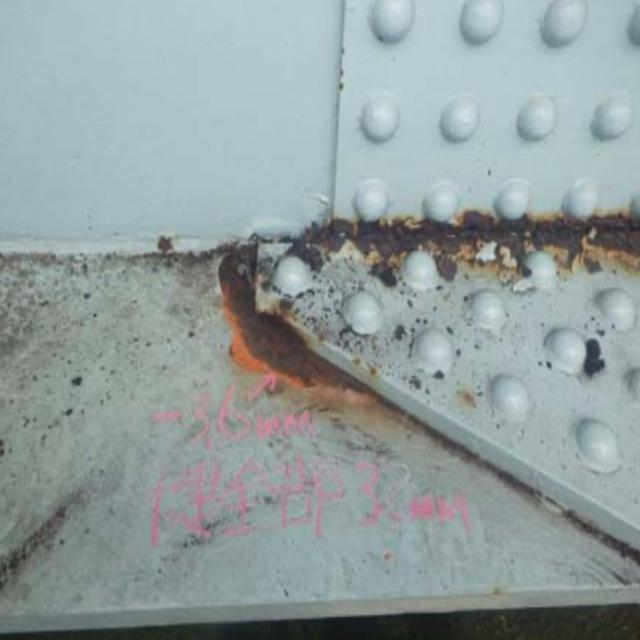corrosion: (214, 173, 632, 456)
